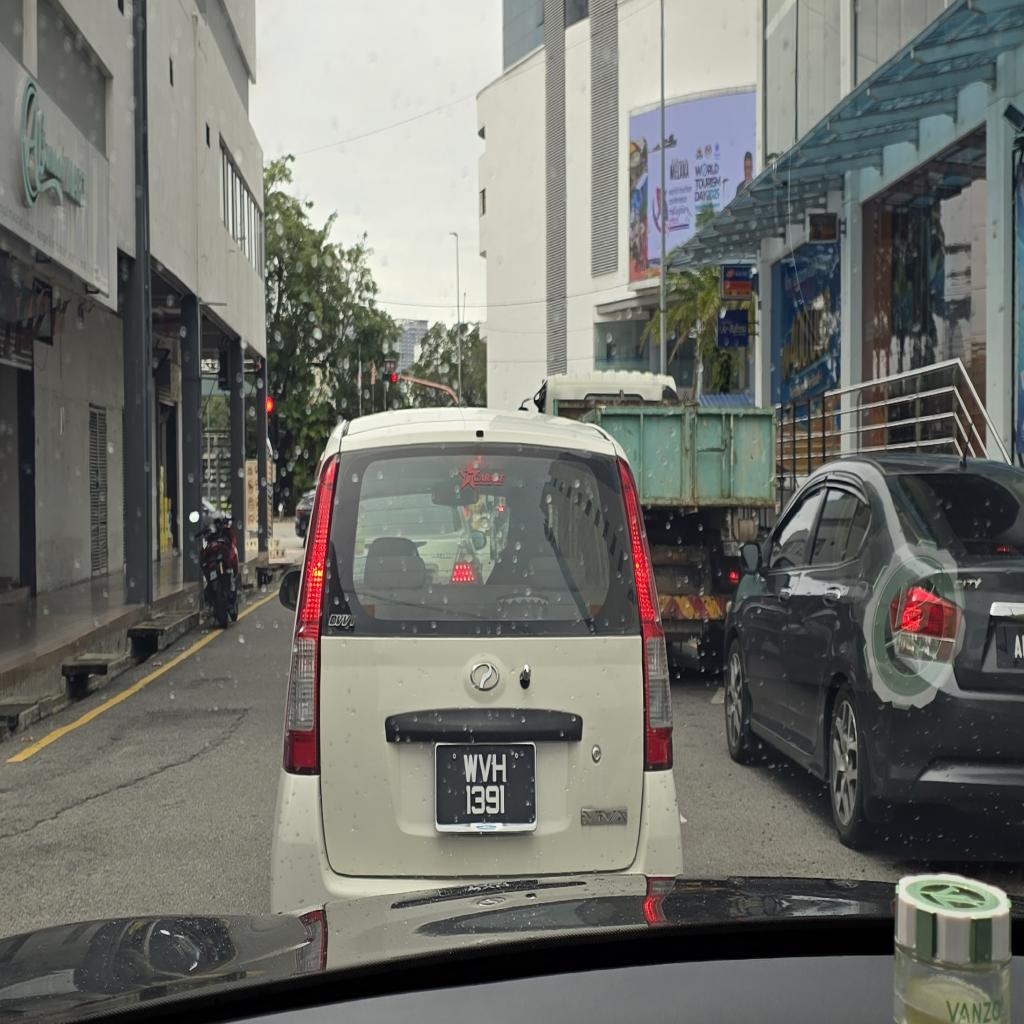car: (272, 409, 681, 910)
car plate: (435, 743, 537, 832)
